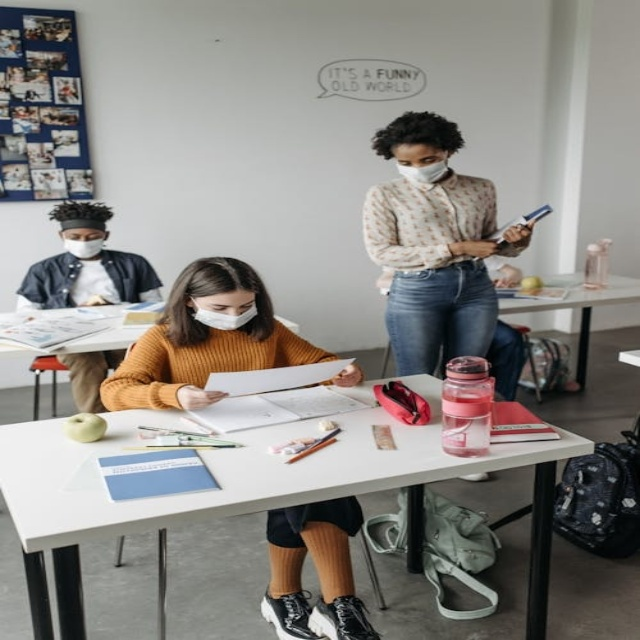Mascara: (191, 298, 259, 331), (395, 157, 450, 184), (62, 234, 107, 259)
Sin_gafas: (200, 295, 255, 312), (392, 151, 442, 165), (61, 228, 105, 240)
Sin_guantes: (174, 383, 229, 411), (323, 361, 365, 392), (448, 236, 502, 260), (492, 263, 523, 287), (499, 225, 531, 248)
